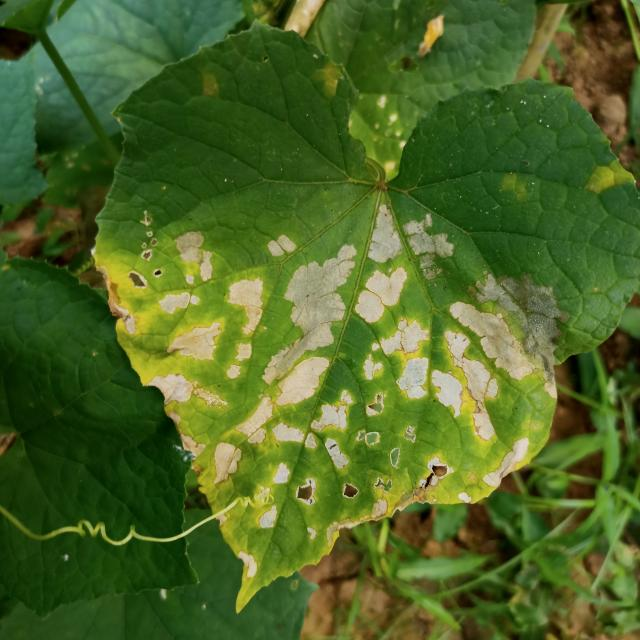disease_cucumber: (115, 209, 584, 568), (574, 152, 636, 204)
